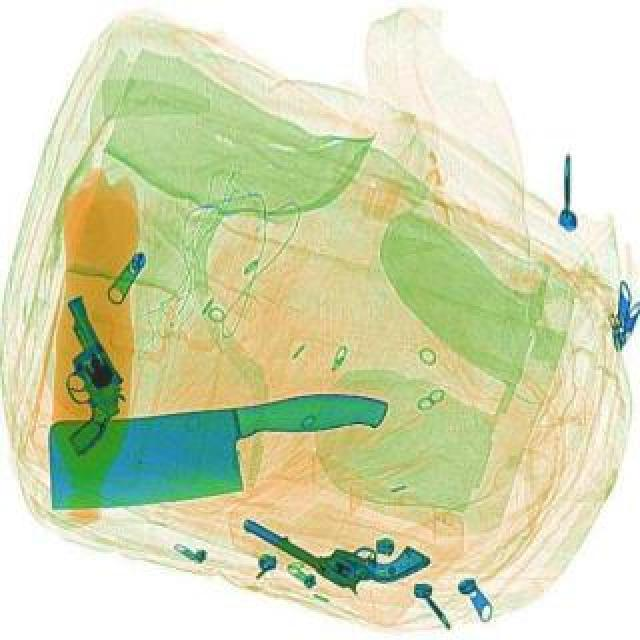gun: (228, 496, 440, 612), (38, 288, 138, 458)
knife: (34, 382, 398, 518)
